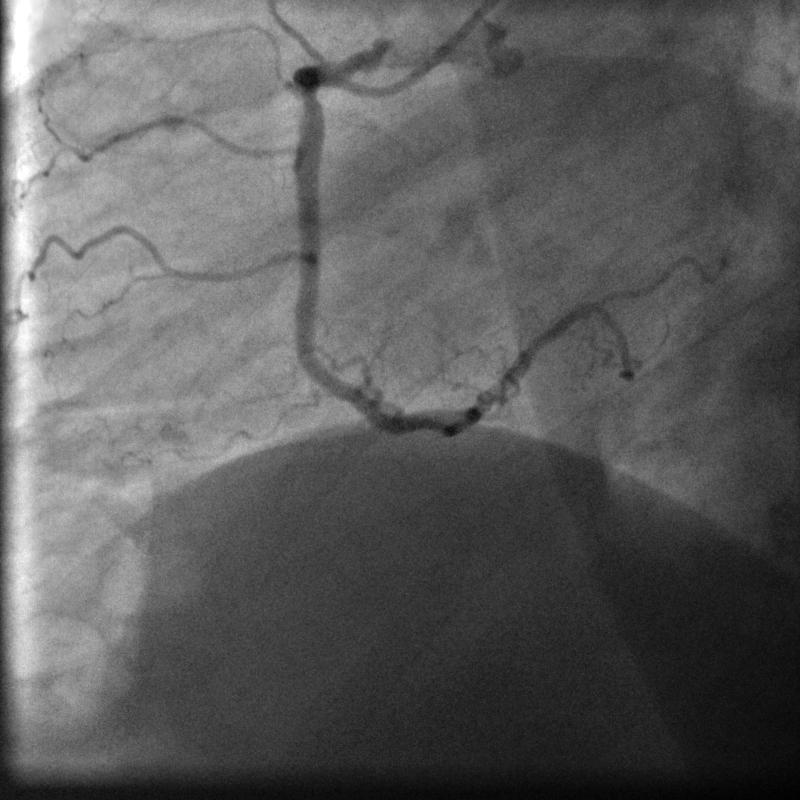Stenosis: (288, 69, 325, 121)
